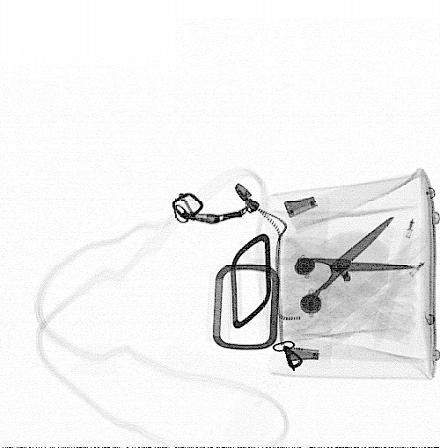Scissors: (243, 215, 417, 337)
